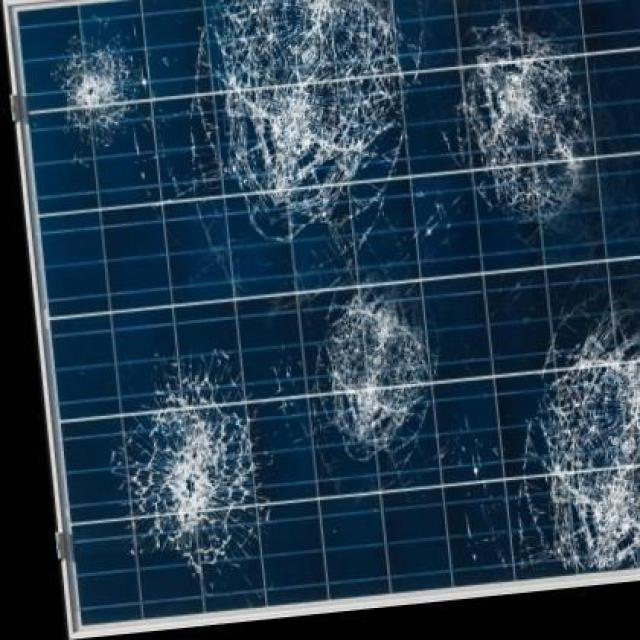cracked: (12, 1, 640, 634)
